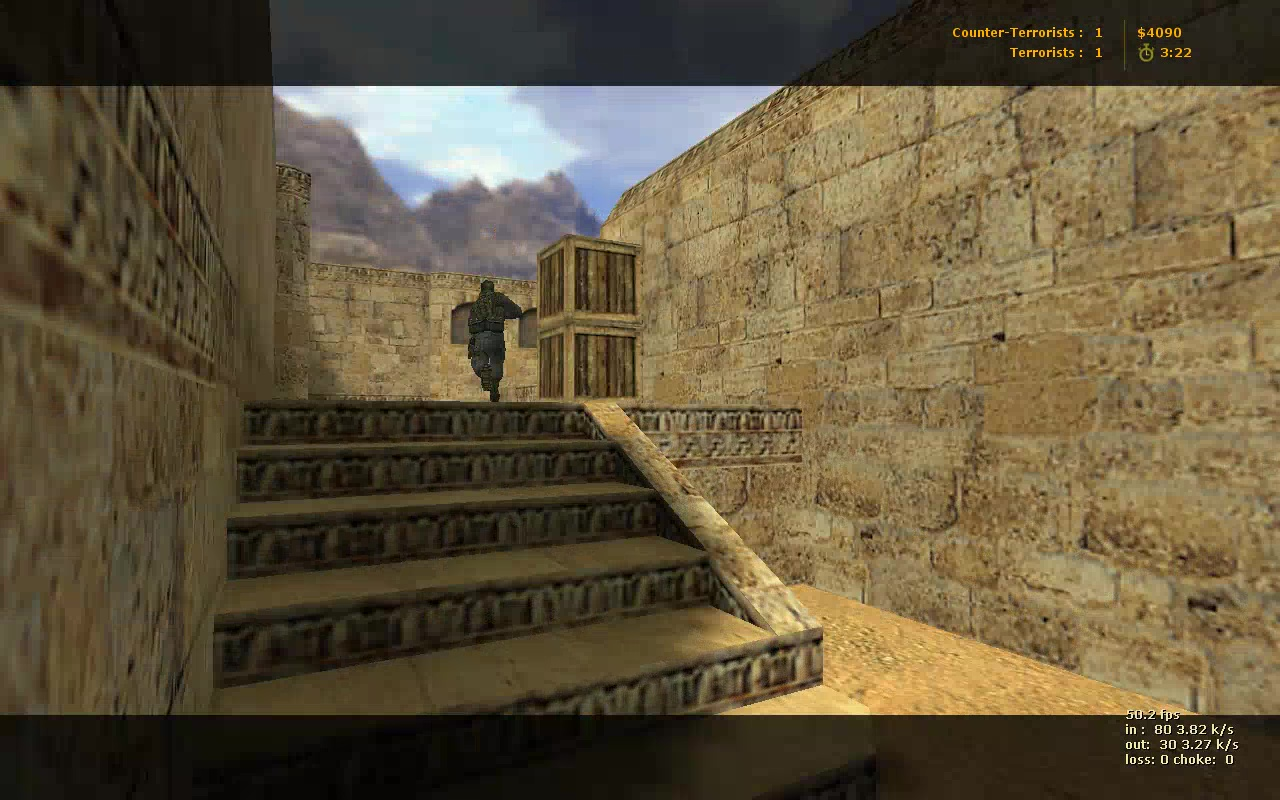ct: (468, 277, 521, 403)
